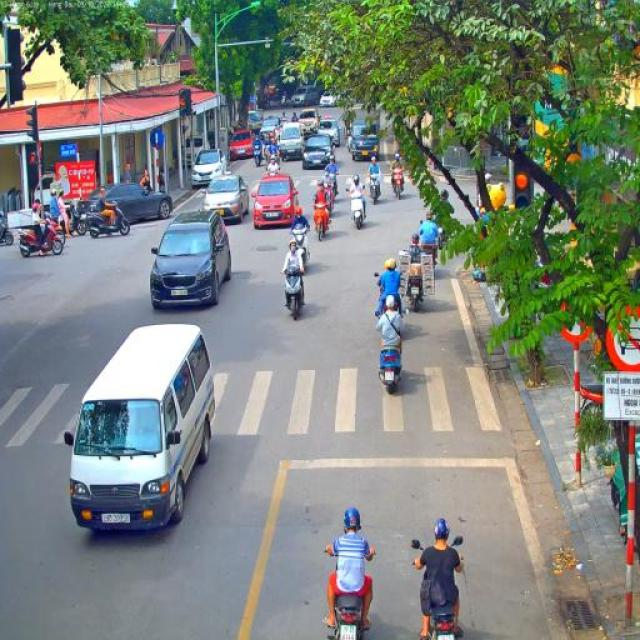bus: (64, 322, 216, 537)
car: (149, 210, 232, 310), (73, 181, 174, 224), (250, 174, 300, 230), (202, 174, 250, 221), (191, 148, 228, 190), (301, 134, 335, 171), (280, 122, 304, 162), (229, 130, 255, 161), (318, 119, 340, 148), (299, 108, 320, 138), (259, 118, 282, 142), (292, 86, 318, 106), (246, 110, 262, 136), (318, 90, 338, 108)
motorcycle: (411, 536, 471, 640), (323, 547, 377, 640), (399, 248, 435, 312), (374, 272, 406, 327), (86, 201, 130, 238), (18, 223, 64, 258), (376, 340, 404, 396), (282, 267, 306, 321), (64, 200, 87, 236), (290, 223, 310, 264), (312, 202, 332, 242), (348, 196, 368, 230), (44, 215, 66, 240), (418, 241, 438, 265), (391, 168, 405, 200), (368, 174, 382, 205), (322, 183, 336, 213), (436, 224, 450, 251), (330, 172, 340, 199), (269, 152, 282, 172), (253, 146, 263, 168), (263, 144, 271, 164)
truck: (348, 119, 380, 162)
